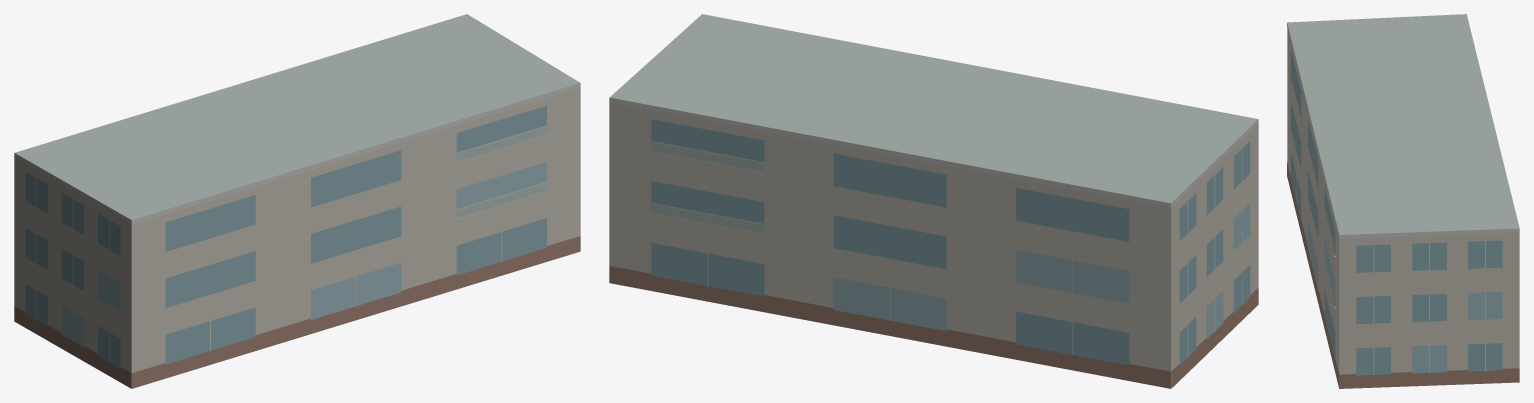
File: survey-upis-32627463.glb
3 renders of one model, left to right at view 1: azimuth 30°, elevation 25°; view 2: azimuth 150°, elevation 25°; view 3: azimuth 270°, elevation 25°, orthographic. The views are drawn at different scales.
Visible parts, largest first — view 1: survey-upis-32627463.tmp; view 2: survey-upis-32627463.tmp; view 3: survey-upis-32627463.tmp.
Boxes of the visible parts, left/top/right/bottom form: survey-upis-32627463.tmp: left=14, top=14, right=580, bottom=388; survey-upis-32627463.tmp: left=609, top=14, right=1258, bottom=388; survey-upis-32627463.tmp: left=1287, top=14, right=1519, bottom=388.
Bounding box in the file's own units: 28.17 × 9.15 × 12.54.
